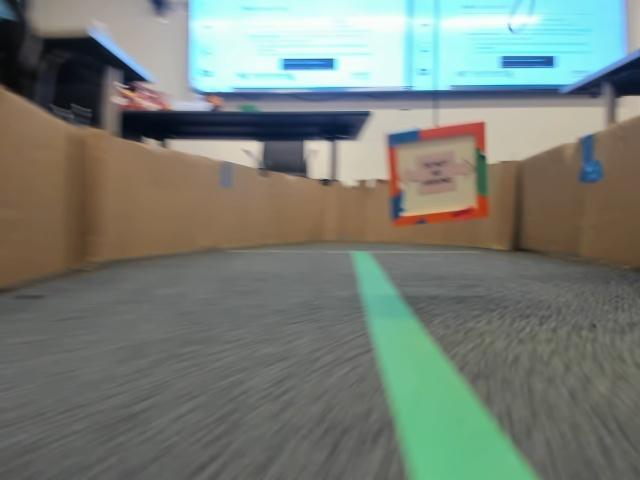Do Not Go Around: (398, 157, 469, 197)
